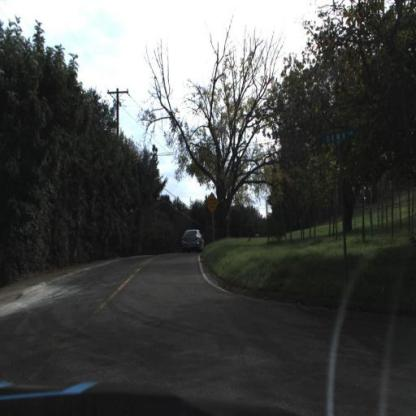car: (182, 224, 204, 254)
